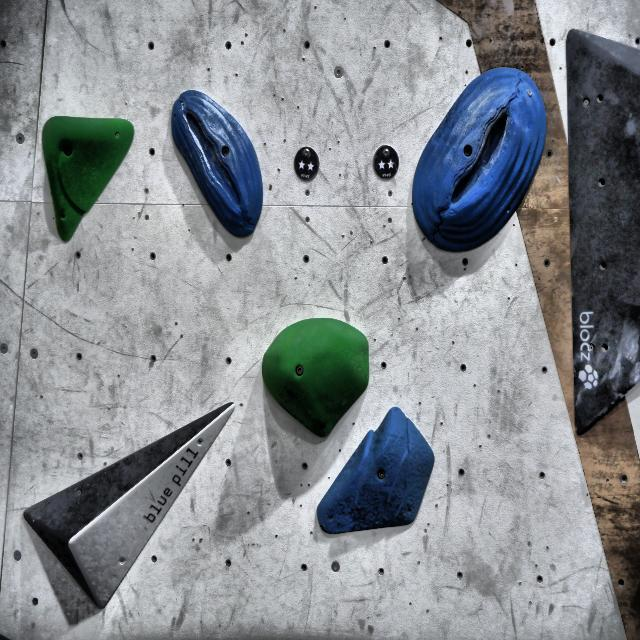Hold: (408, 72, 548, 252), (317, 408, 446, 542), (166, 84, 266, 240), (256, 316, 366, 437), (41, 110, 134, 252)
